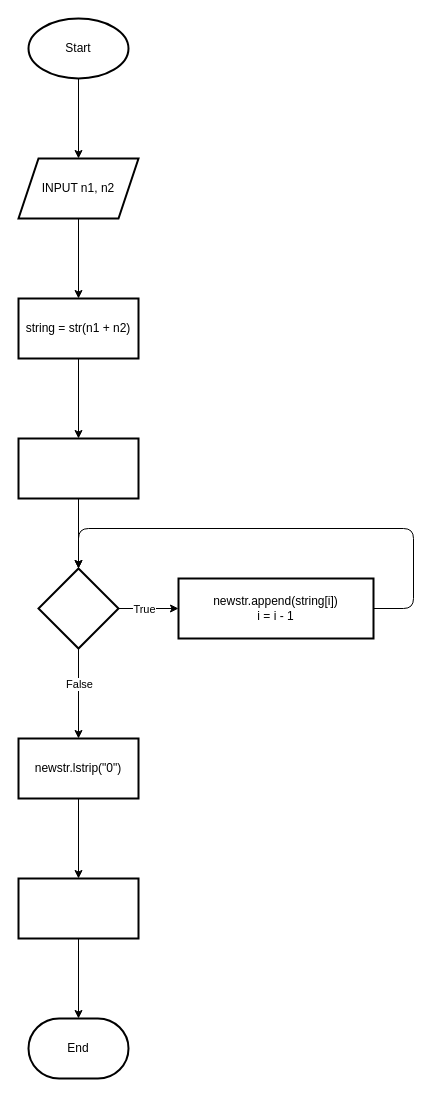
The diagram is 439 pixels wide and 1096 high, and some of its shapes have lost their labels. The shapes that lost their labels are listed below. From the top down, each one's centre as x and y in pixels, then its label:
(78,468): i = len(string) - 1 newstr = ""
(78,608): i >= 0
(78,908): print(newstr)
